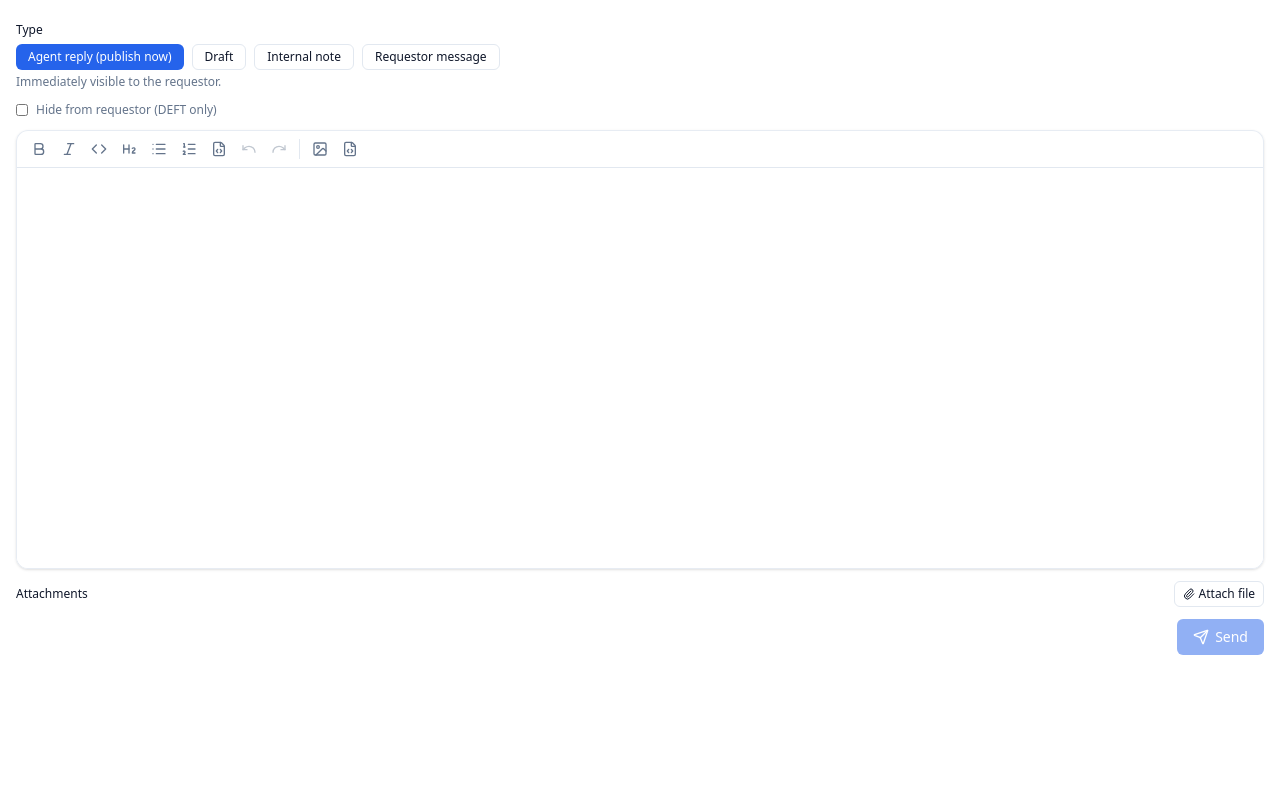
Scenario: TicketEntryComposer › shows DEFT-only checkbox only for DEFT agent reply type
expect the checkbox with test id "deft-only-checkbox" is shown: met, box [16,104,28,116]
Click the button with test id "entry-type-btn-context": (304, 57) [254,44,354,70]
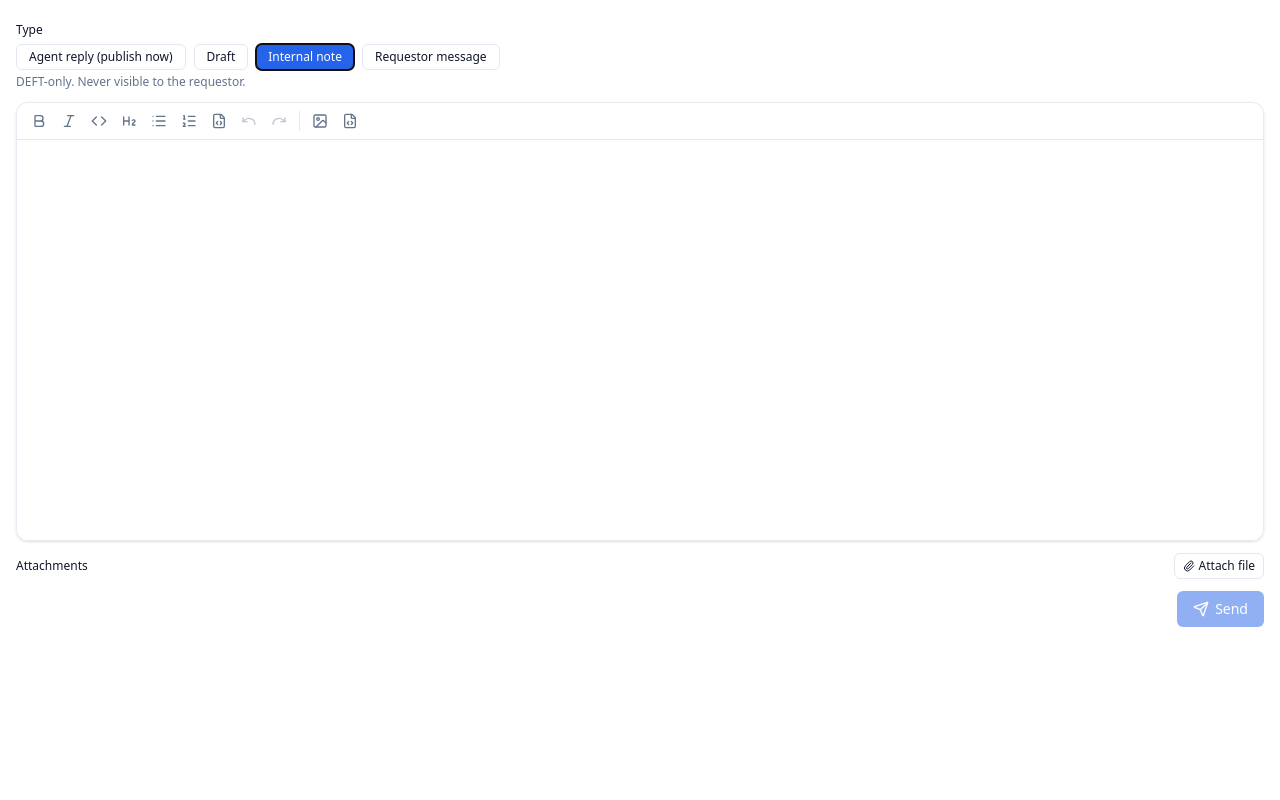
expect the checkbox with test id "deft-only-checkbox" is gone: met
